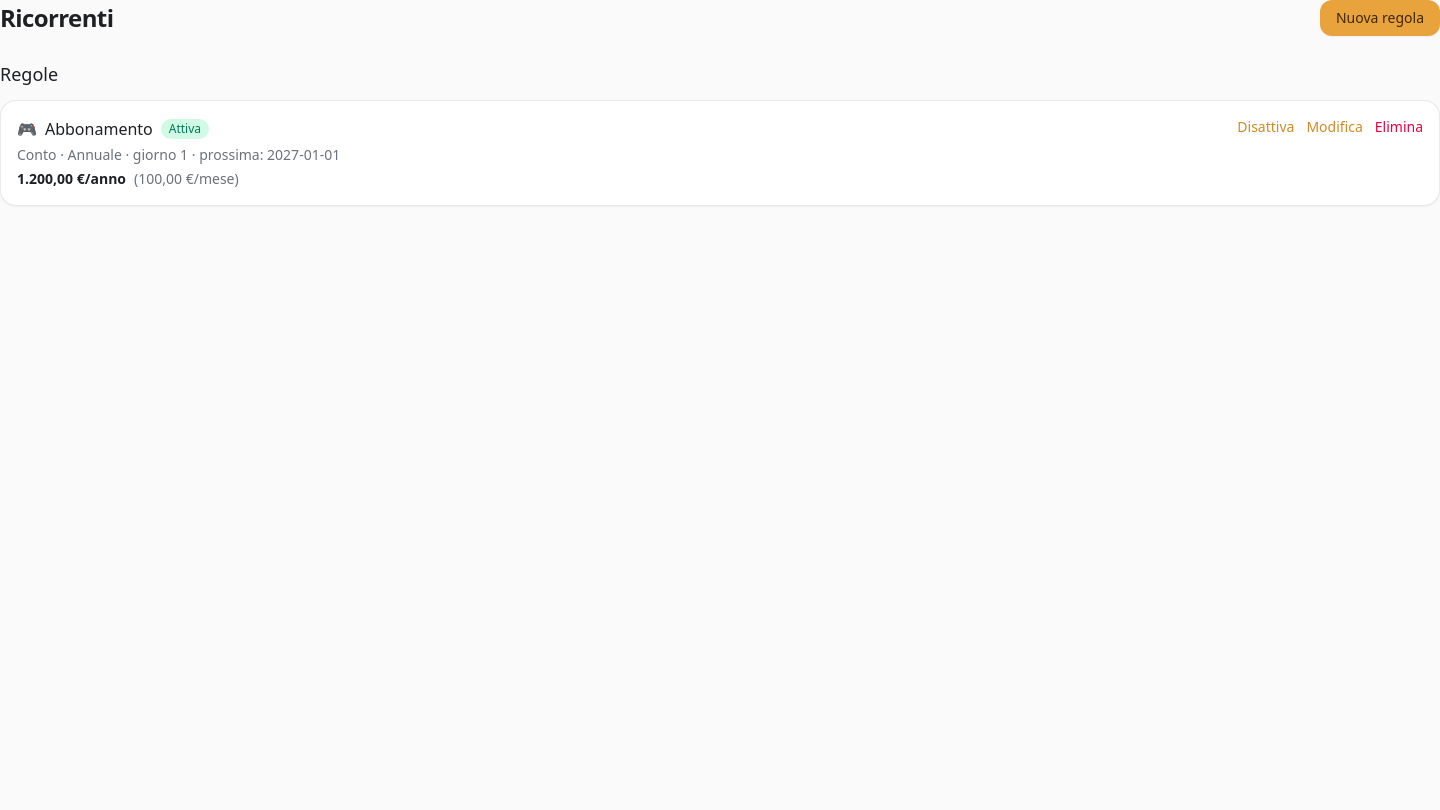
RecurringPage › shows the form when "Nuova regola" is clicked
Click the button "Nuova regola" at (1380,18), box left=1320, top=0, right=1439, bottom=36
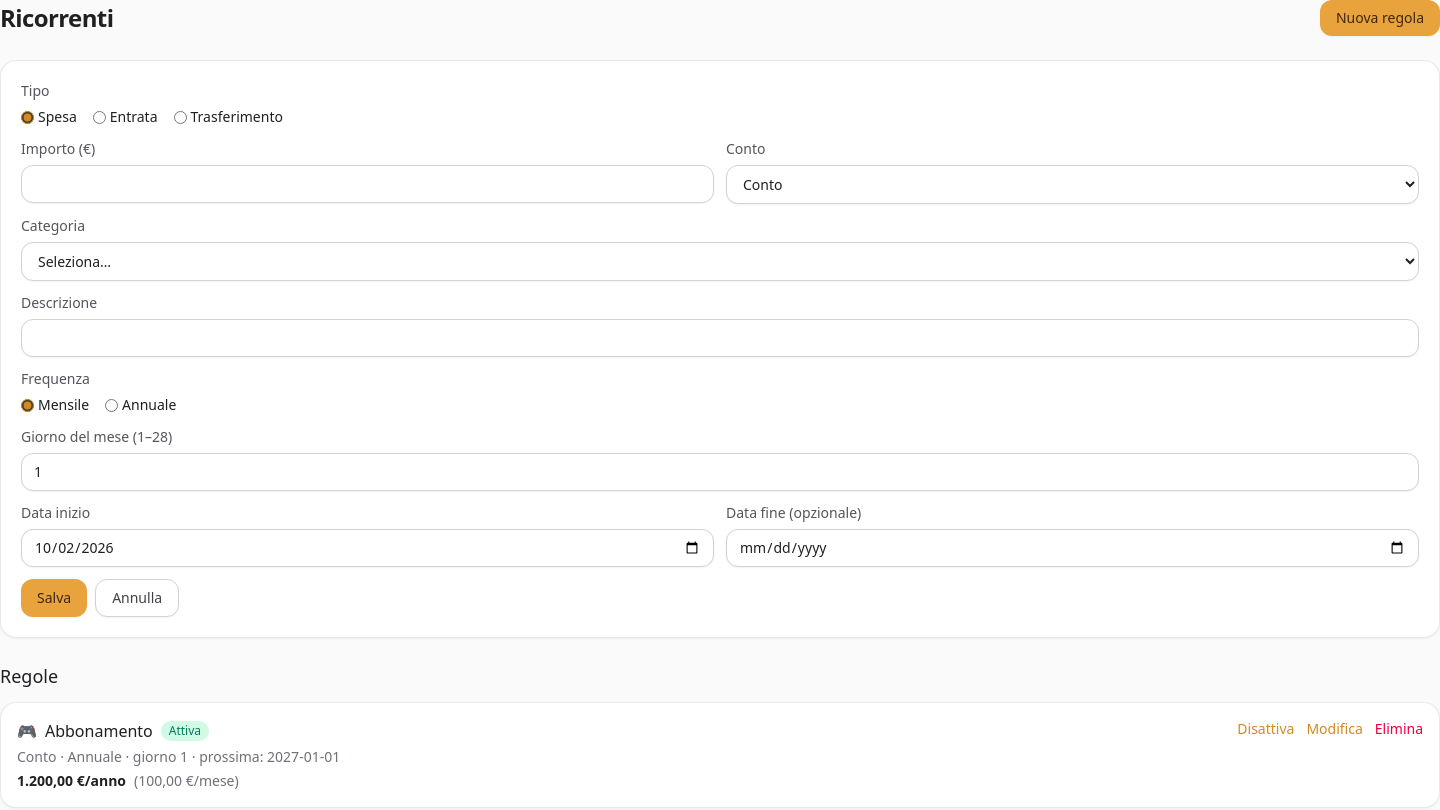
Expected: the button "Salva" is shown, left=21, top=579, right=87, bottom=617
